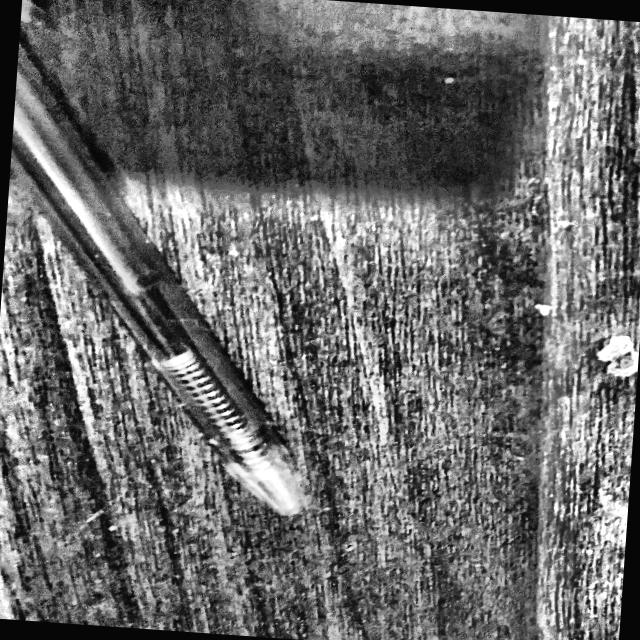Pen: (0, 28, 353, 540)
